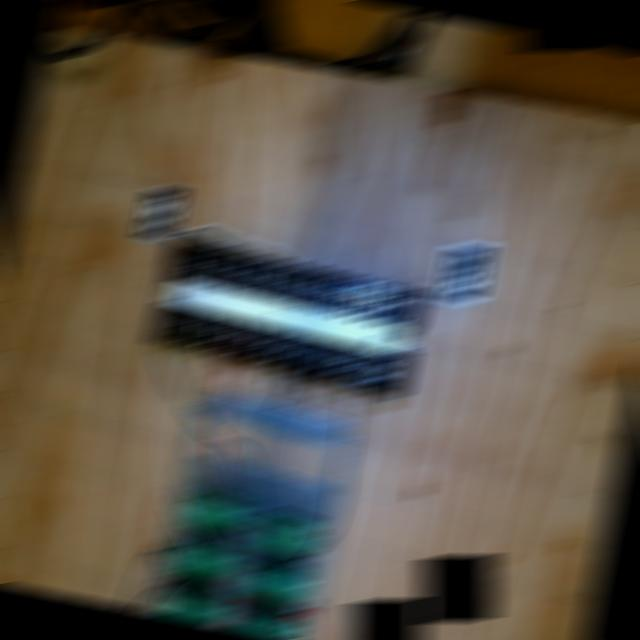Phillips_Block: (148, 236, 427, 398)
Terminal_2: (244, 558, 309, 607), (170, 536, 233, 583), (181, 490, 245, 534), (160, 584, 224, 623), (237, 606, 300, 638)
